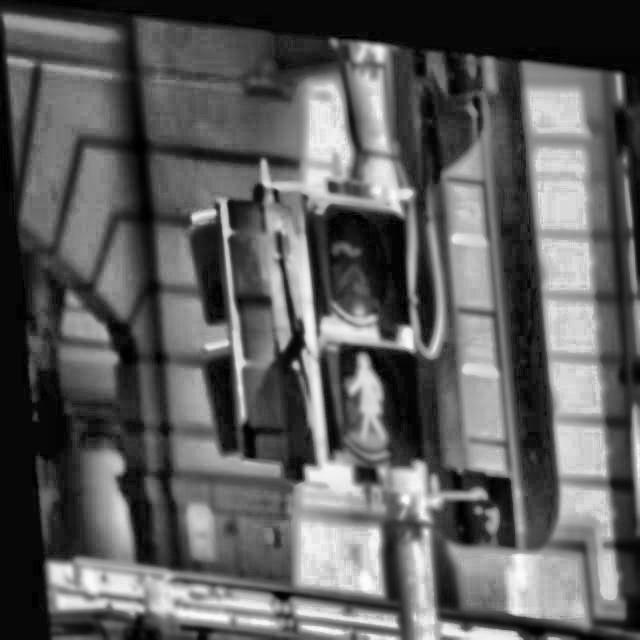semaforo pedestre: (242, 130, 482, 517)
